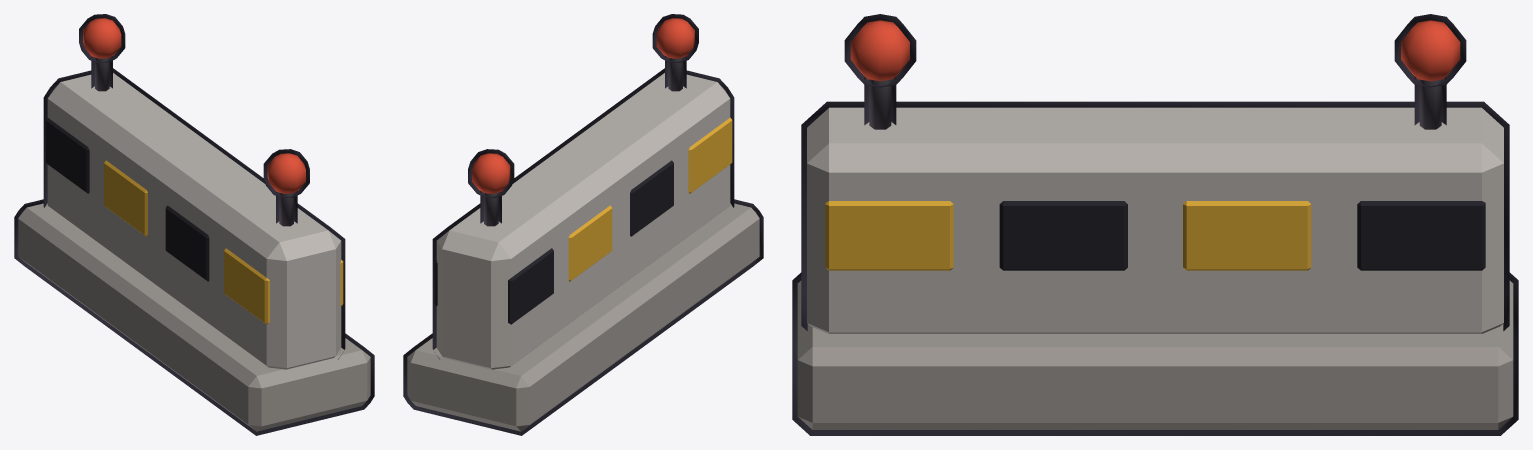
Rendered from barricade.glb.
The picture shows the model from 3 angles, left to right: view 1: azimuth 30°, elevation 25°; view 2: azimuth 150°, elevation 25°; view 3: azimuth 270°, elevation 25°; orthographic projection. The views are drawn at different scales.
Visible parts, largest first — view 1: barricade; view 2: barricade; view 3: barricade.
Part boxes in pixels (box(x1,y1,x2,y2)): barricade: box(14, 14, 374, 435); barricade: box(403, 14, 763, 435); barricade: box(792, 14, 1518, 435).
Size of the model in its own units: 1.21 by 2.29 by 3.96.
